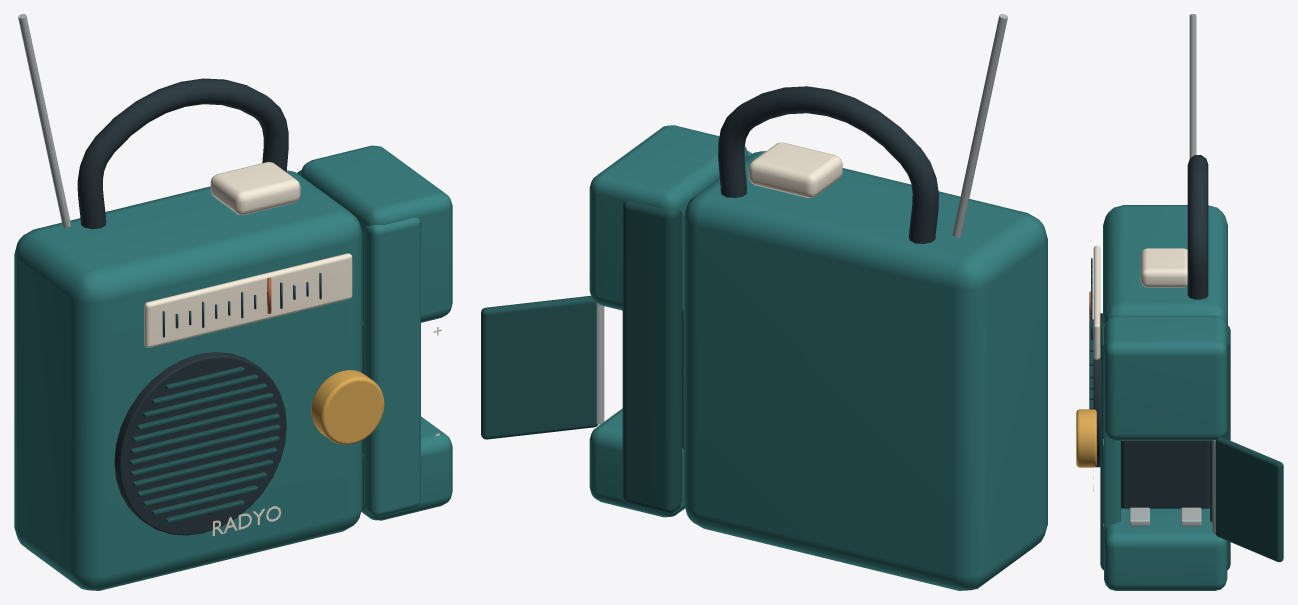
File: Radio.fbx
The picture shows the model from 3 angles, left to right: view 1: azimuth 30°, elevation 25°; view 2: azimuth 150°, elevation 25°; view 3: azimuth 270°, elevation 25°; orthographic projection. The views are drawn at different scales.
Parts seen in each view (by area): view 1: Surface_KKTC_CanvasTeal, Surface_KKTC_Rubber, Surface_KKTC_CanvasDeep, Surface_KKTC_WarmWhite, Surface_KKTC_Ochre, PowerSwitch, Surface_KKTC_Metal, Surface_KKTC_BlueInk; view 2: Surface_KKTC_CanvasTeal, Surface_KKTC_CanvasDeep, BatteryCover, Surface_KKTC_Rubber, PowerSwitch, Surface_KKTC_Metal; view 3: Surface_KKTC_CanvasTeal, Surface_KKTC_Rubber, BatteryCover, Surface_KKTC_Metal, PowerSwitch, Surface_KKTC_CanvasDeep, Surface_KKTC_Ochre, Surface_KKTC_WarmWhite.
Part boxes in pixels (x1=…): Surface_KKTC_CanvasTeal: x1=14, y1=145, x2=452, y2=590; Surface_KKTC_Rubber: x1=77, y1=78, x2=363, y2=535; Surface_KKTC_CanvasDeep: x1=129, y1=170, x2=301, y2=523; Surface_KKTC_WarmWhite: x1=144, y1=253, x2=441, y2=536; Surface_KKTC_Ochre: x1=311, y1=370, x2=384, y2=444; PowerSwitch: x1=210, y1=162, x2=300, y2=215; Surface_KKTC_Metal: x1=18, y1=14, x2=70, y2=227; Surface_KKTC_BlueInk: x1=162, y1=273, x2=321, y2=337; Surface_KKTC_CanvasTeal: x1=589, y1=125, x2=1047, y2=590; Surface_KKTC_CanvasDeep: x1=622, y1=200, x2=682, y2=513; BatteryCover: x1=481, y1=295, x2=598, y2=439; Surface_KKTC_Rubber: x1=682, y1=86, x2=938, y2=449; PowerSwitch: x1=748, y1=142, x2=842, y2=197; Surface_KKTC_Metal: x1=596, y1=14, x2=1007, y2=424; Surface_KKTC_CanvasTeal: x1=1100, y1=205, x2=1227, y2=590; Surface_KKTC_Rubber: x1=1093, y1=155, x2=1209, y2=508; BatteryCover: x1=1215, y1=437, x2=1283, y2=562; Surface_KKTC_Metal: x1=1129, y1=14, x2=1215, y2=533; PowerSwitch: x1=1140, y1=248, x2=1187, y2=287; Surface_KKTC_CanvasDeep: x1=1089, y1=319, x2=1230, y2=569; Surface_KKTC_Ochre: x1=1076, y1=409, x2=1096, y2=467; Surface_KKTC_WarmWhite: x1=1093, y1=245, x2=1103, y2=526.
Bounding box in the file's own units: 24.07 × 28.14 × 12.09.
